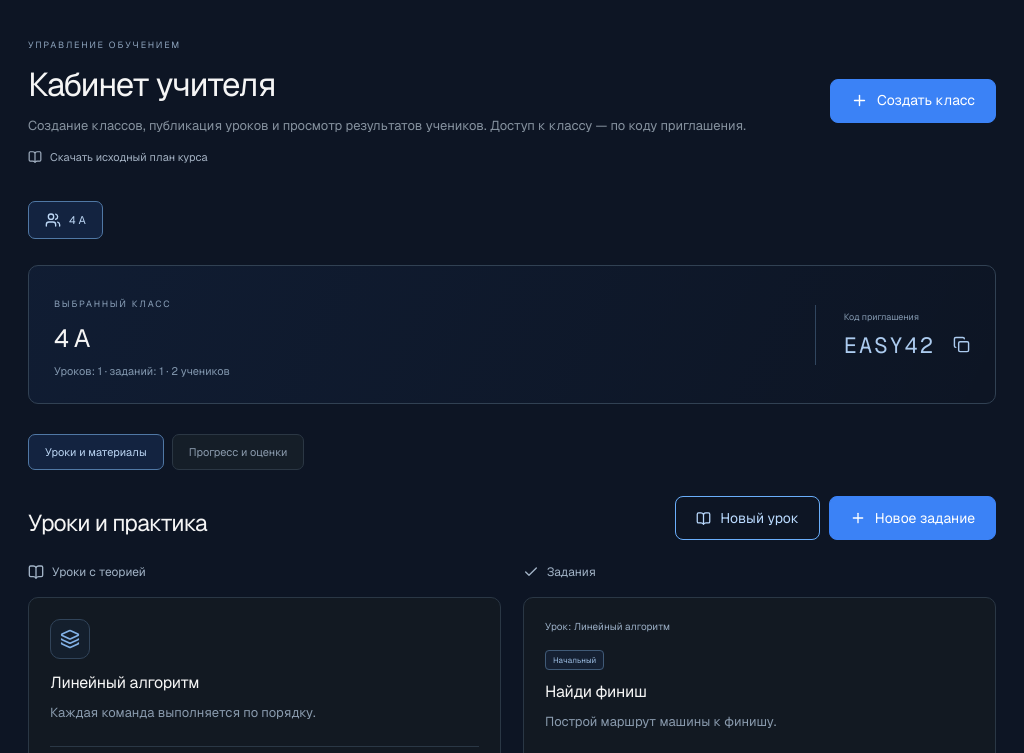
Scenario: Classroom › publishes teacher-created lesson theory in the selected class
Click the button "Новый урок" at (748, 518), box [675, 496, 820, 540]
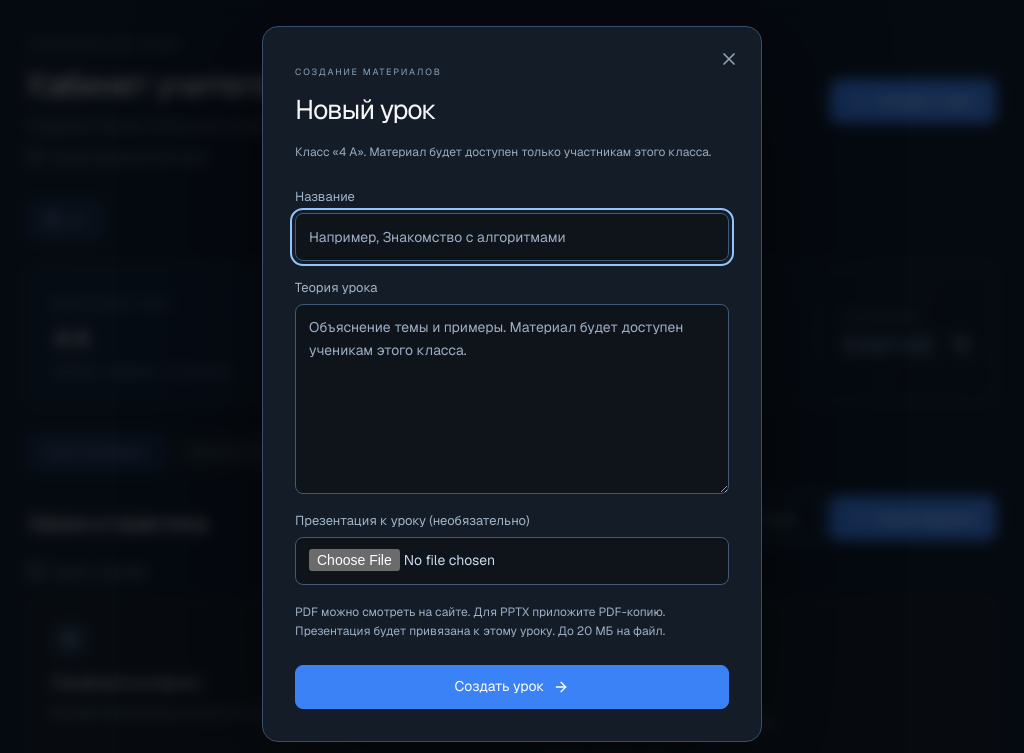
Result: the dialog shows "Класс «4 А»" at [262, 26, 762, 742]
Type "Повторяем команды" into the field named "title" at (512, 237), box [295, 213, 729, 261]
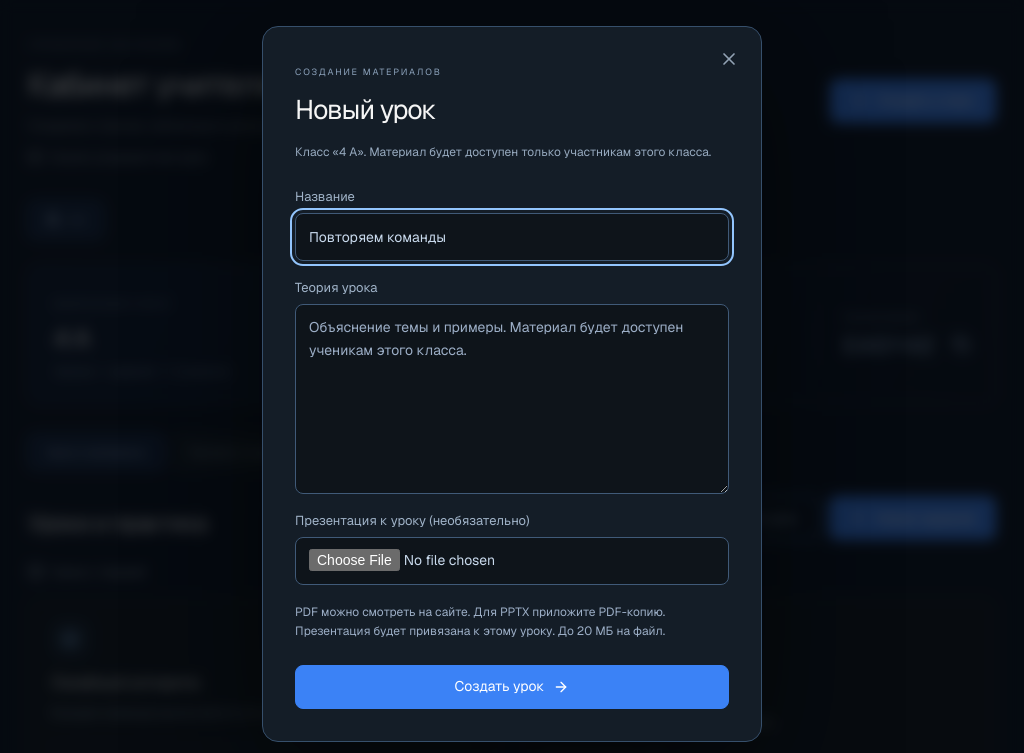
Replace the text in the text box named "theory" with "Цикл повторяет команды несколько раз." at (512, 399), box [295, 304, 729, 494]
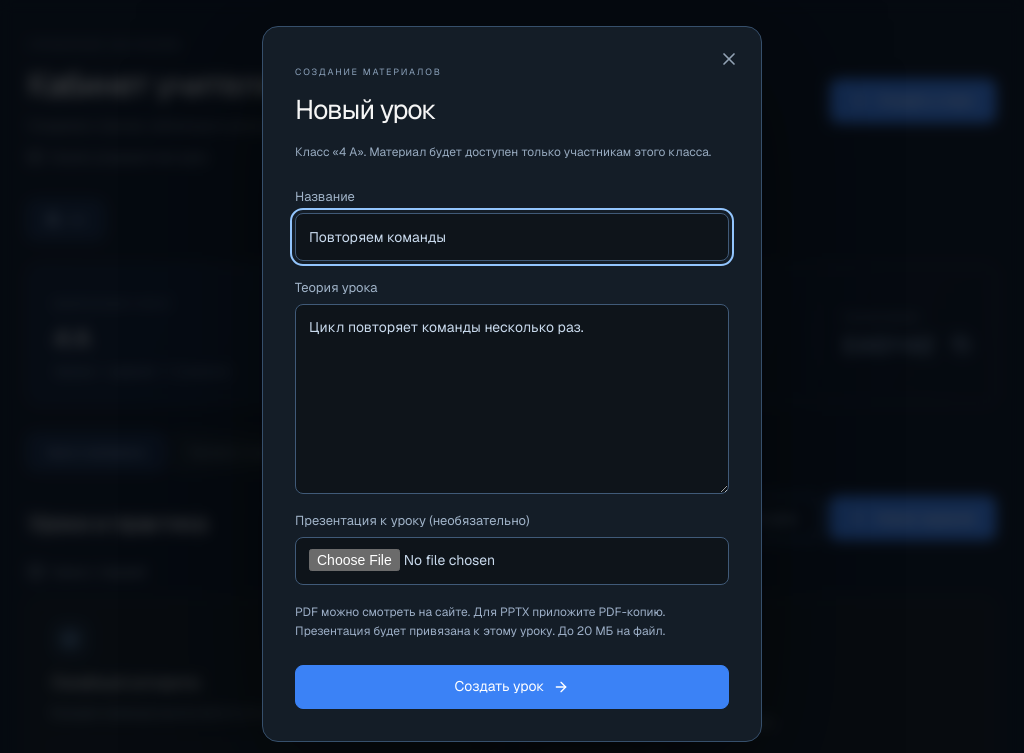
Submit the form, box [295, 188, 729, 709]
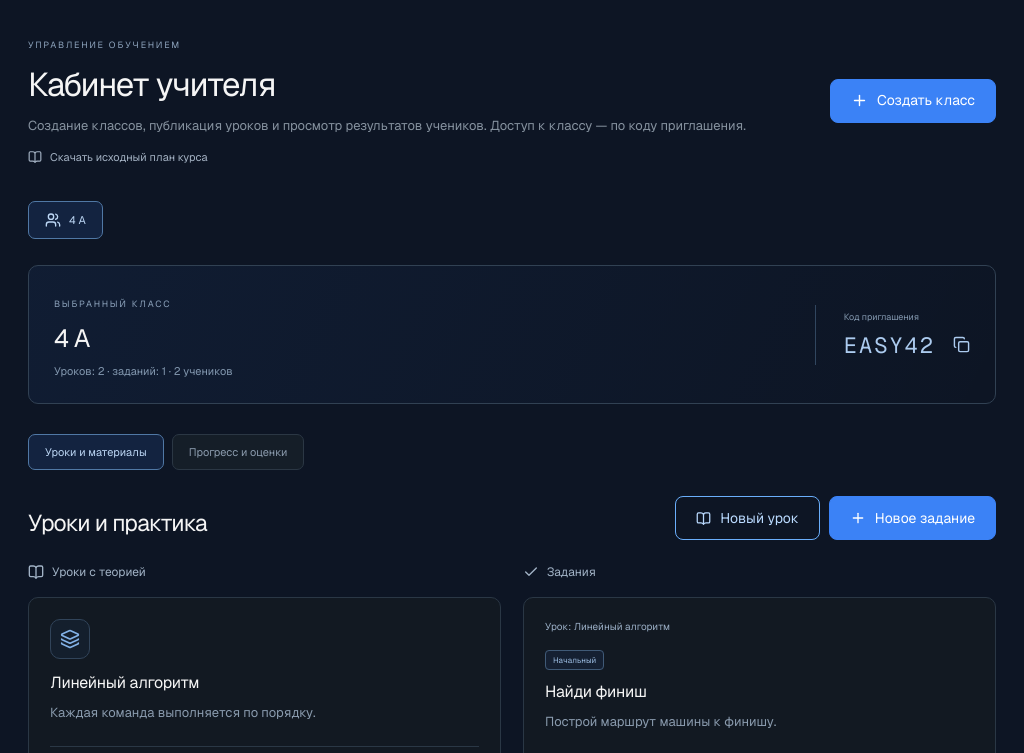
Result: the dialog is gone
